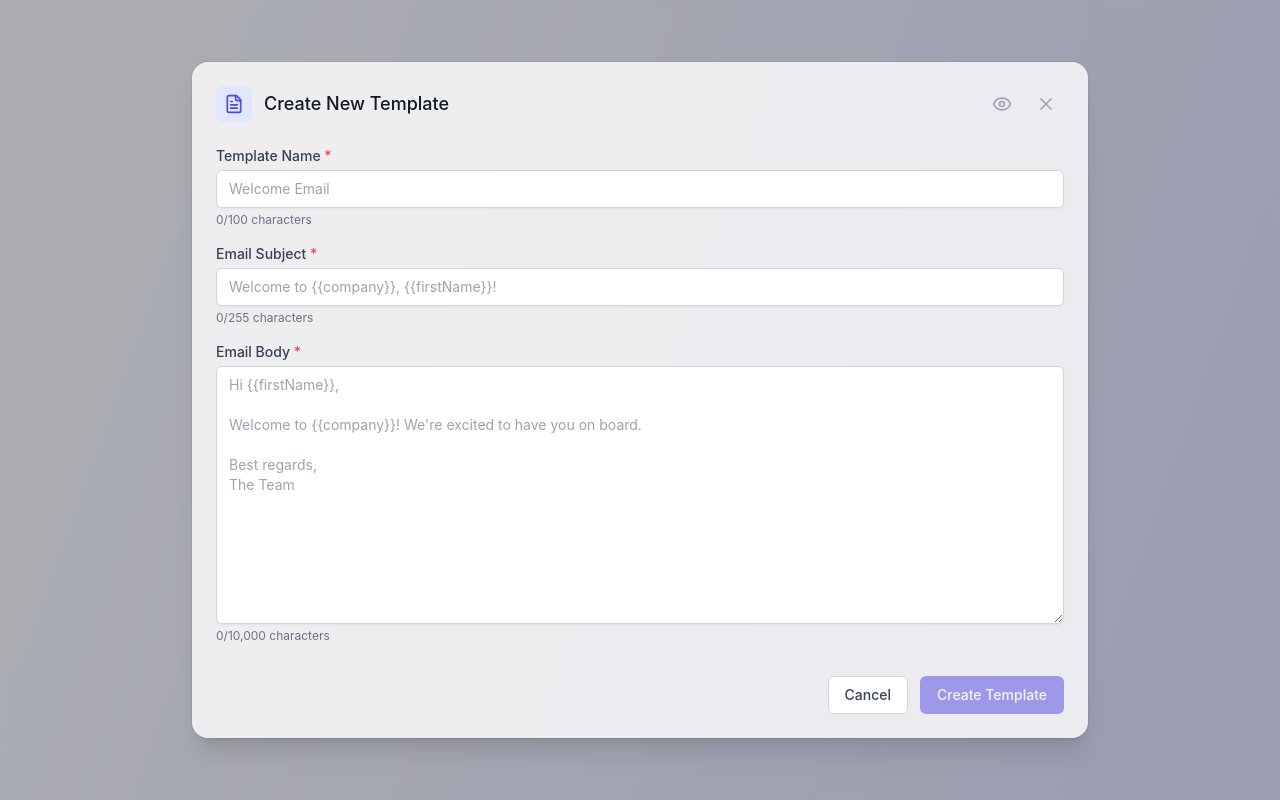
Test: AddTemplateModal › Form Interaction › should update character counts when typing
Type "Test Template" into the field labelled "Template Name *".
click(640, 189); type("Test Template")  # box [216, 170, 1064, 208]
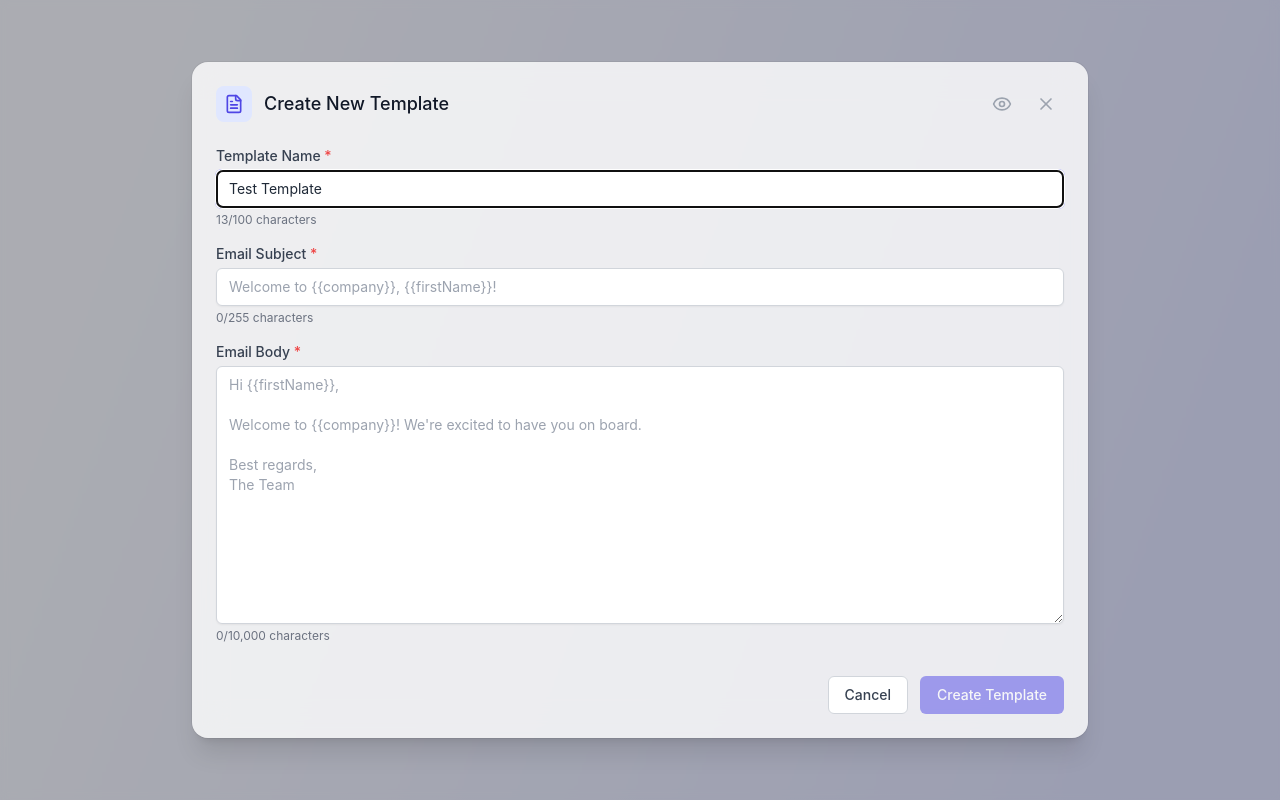
Expected: the text "13/100 characters" is shown, [216, 212, 316, 227]
